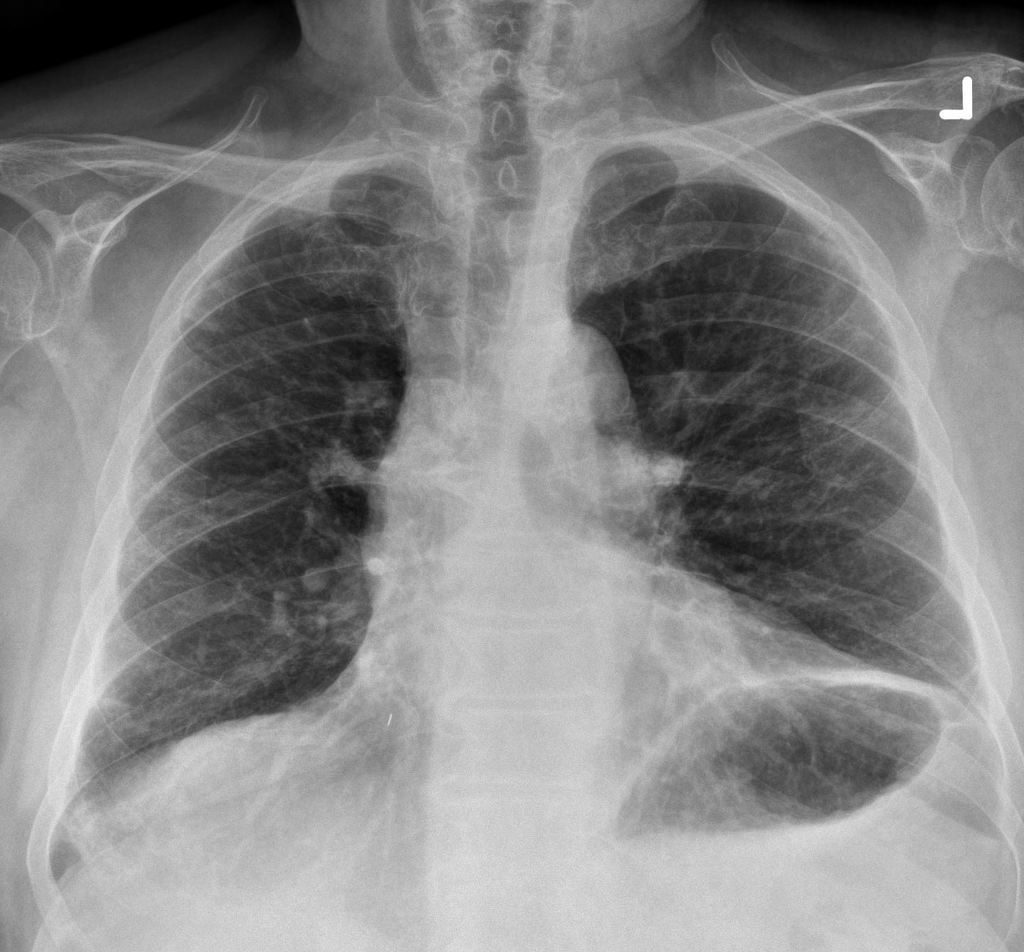cancer: (583, 136, 933, 755), (135, 190, 420, 765)
